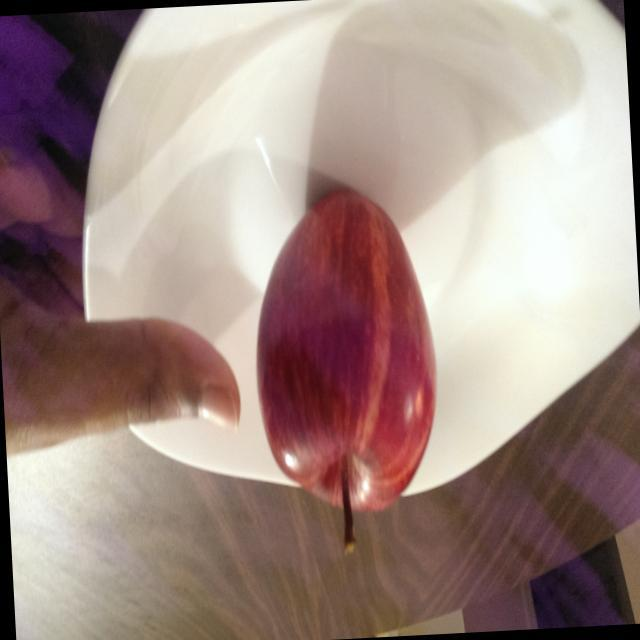Apple: (244, 179, 450, 566)
Finger: (121, 300, 246, 442)
